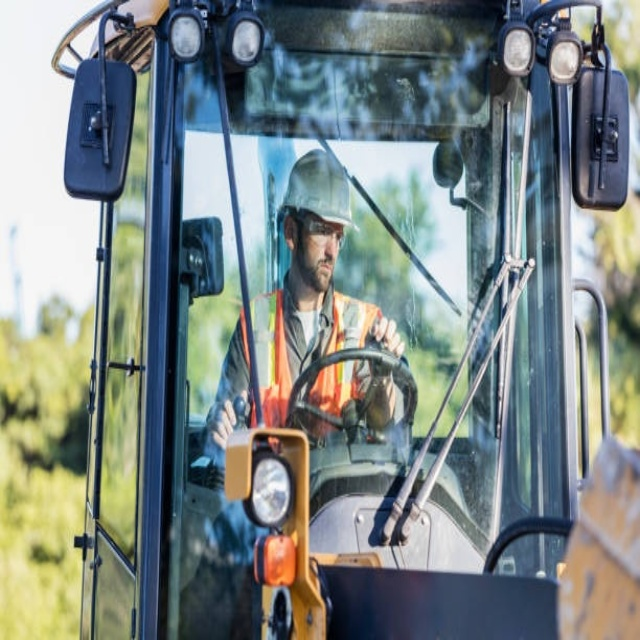Gafas: (296, 213, 347, 249)
Sin_guantes: (203, 386, 250, 452), (359, 311, 406, 375)
Sin_mascara: (313, 260, 334, 286)
